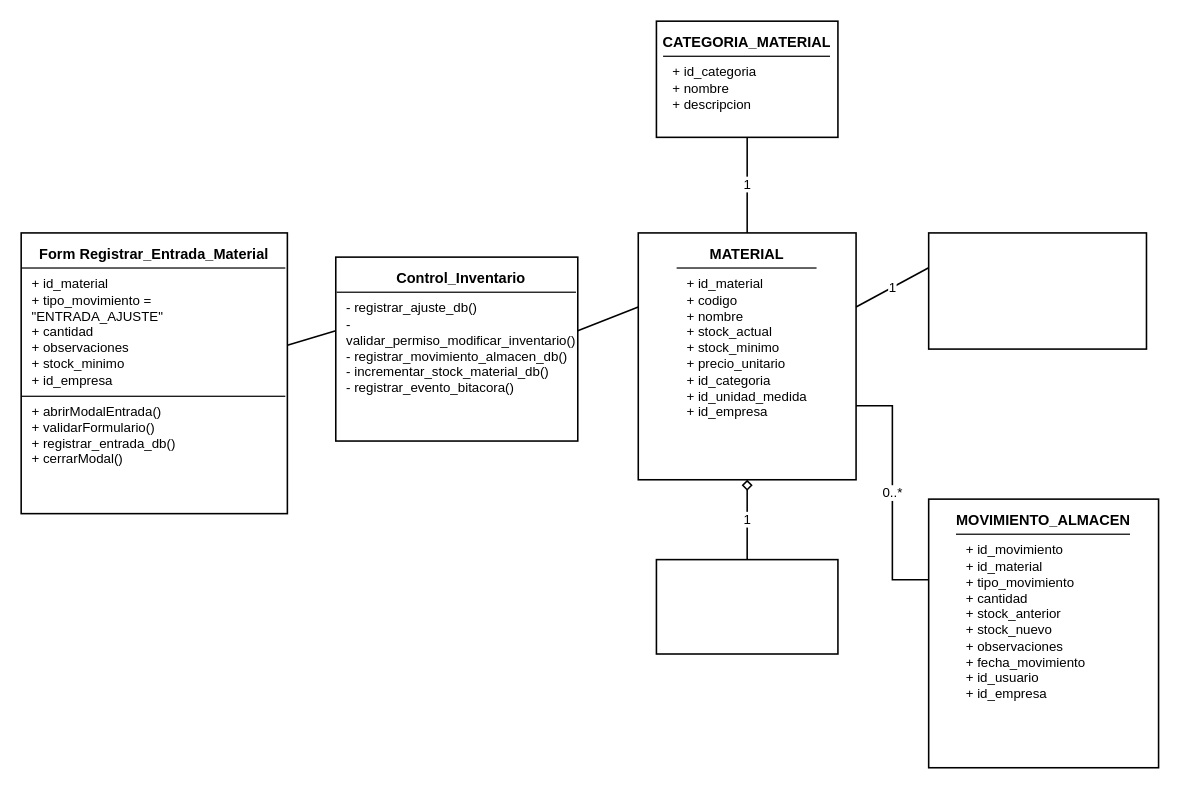
Image size: 1181x793. Some labels were removed from this diagram. The shapes that lost their labels are listed below. From the top down, each one's centre as x and y in pixels, then its label:
point (1037, 290): UNIDAD_MEDIDA + id_unidad_medida + nombre + abreviatura
point (746, 606): Empresa + id_empresa + nombre_empresa
